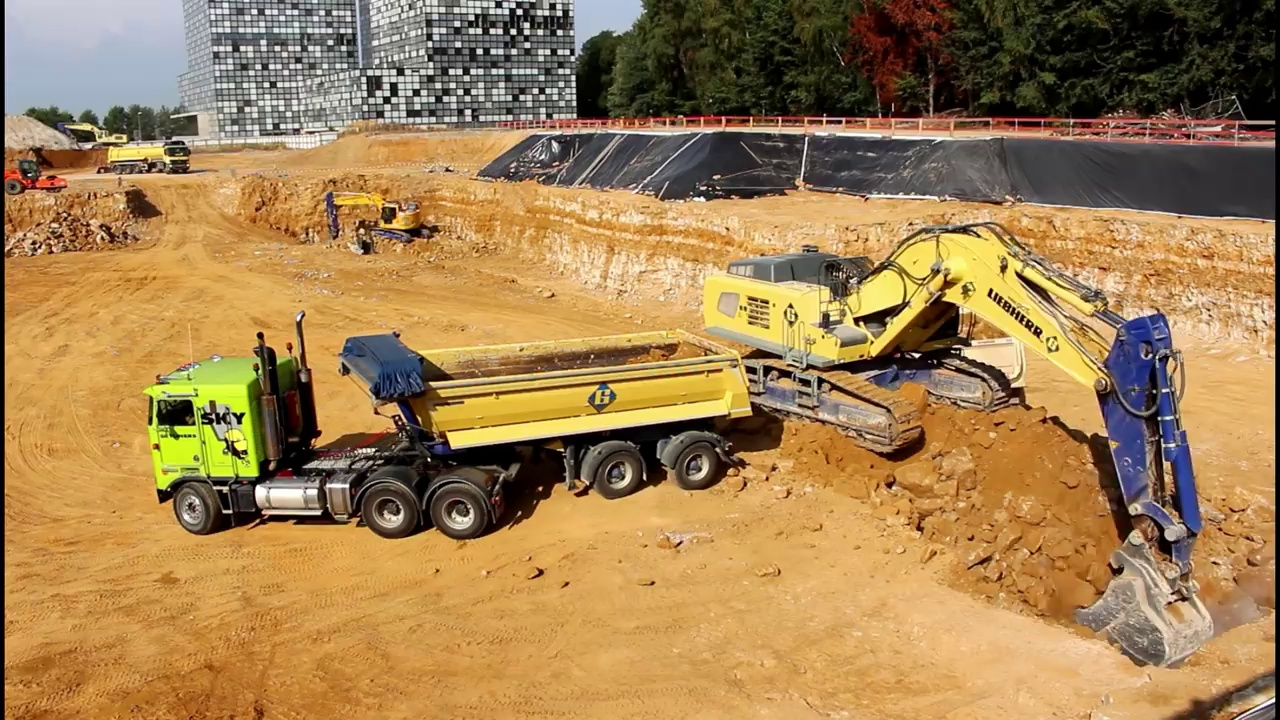compactor: (4, 157, 71, 199)
excavator: (695, 219, 1223, 675), (316, 181, 439, 254), (57, 113, 133, 154)
truck: (137, 307, 759, 544), (897, 236, 1037, 420), (104, 138, 194, 178)
